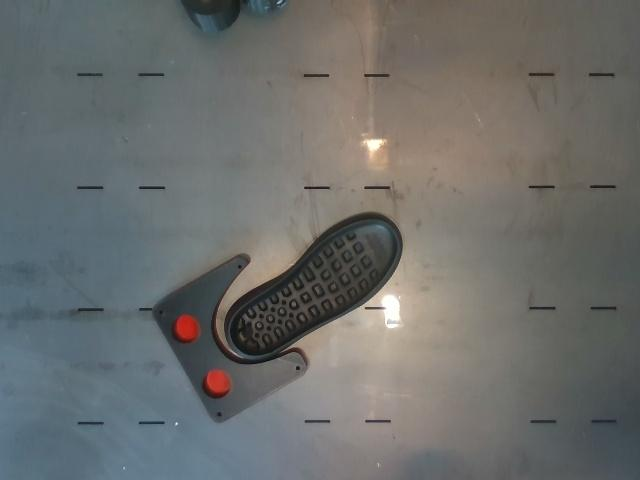shoes: (229, 221, 399, 356)
